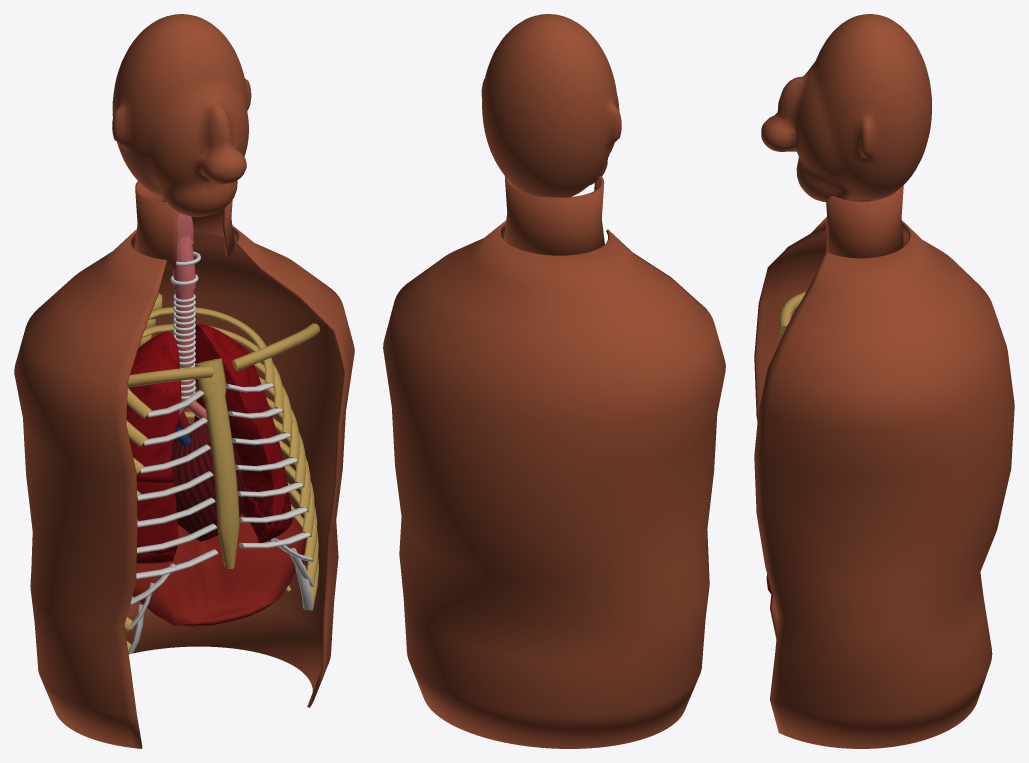
Rendered from respiratory-Wyjadh88.glb.
The picture shows the model from 3 angles, left to right: view 1: azimuth 30°, elevation 25°; view 2: azimuth 150°, elevation 25°; view 3: azimuth 270°, elevation 25°; orthographic projection.
Parts seen in each view (by area): view 1: body, ribcage, lungs, diaphragm, mediastinum, airway; view 2: body; view 3: body, ribcage.
Part boxes in pixels (x1,y1,x2,y2): body: (14, 14, 354, 748); ribcage: (124, 307, 319, 654); lungs: (126, 324, 292, 563); diaphragm: (132, 514, 306, 626); mediastinum: (171, 411, 244, 541); airway: (162, 197, 207, 424); body: (383, 14, 725, 748); body: (754, 14, 1014, 748); ribcage: (779, 292, 805, 342).
Size of the model in its own units: 2.19 by 4.63 by 1.62.
15 materials, 15 textured.
